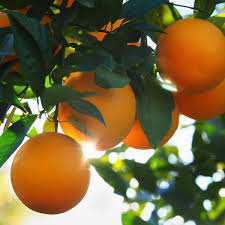orange: (11, 130, 94, 214), (53, 68, 137, 149), (152, 17, 224, 95), (122, 85, 182, 154)
